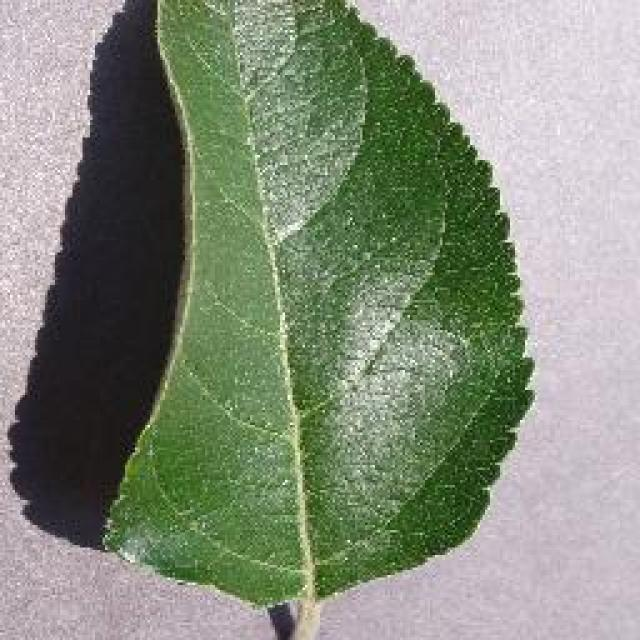apple healthy: (97, 0, 535, 638)
